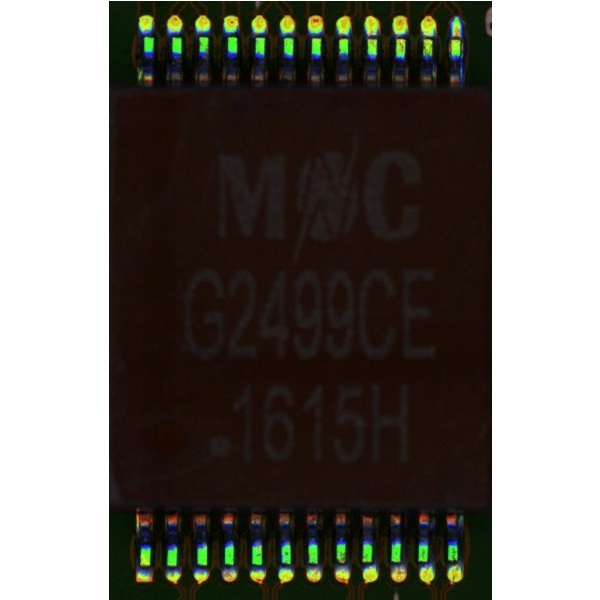Bad_podu: (453, 24, 460, 49)
